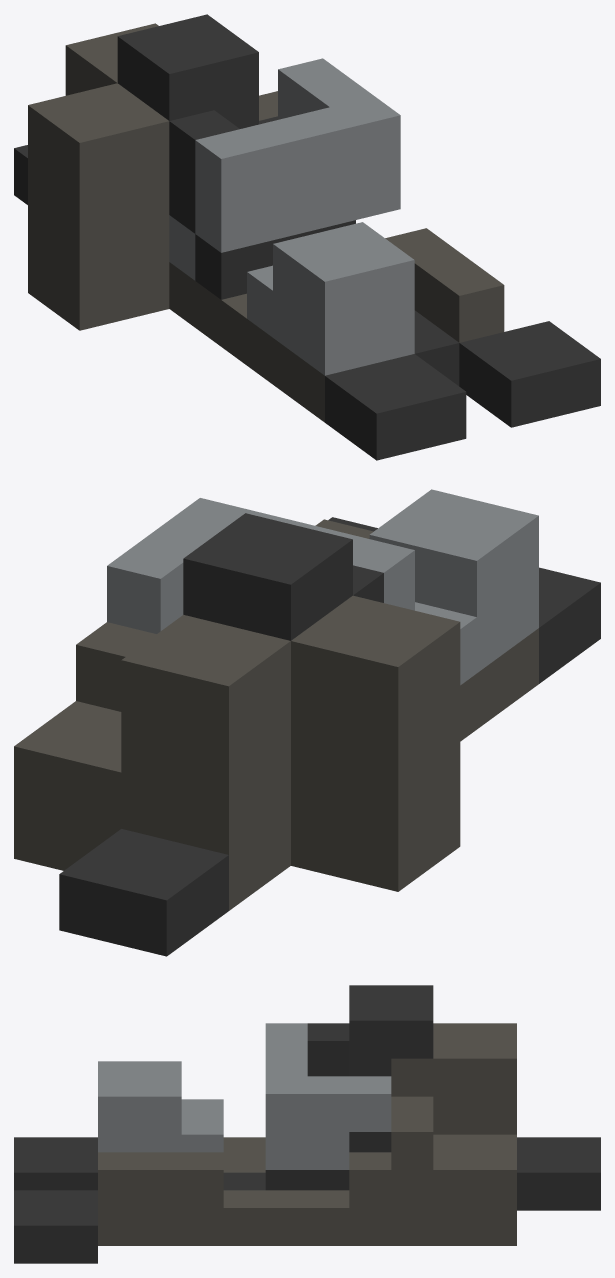
The model's file is Mecha01_left_foot.obj.
3 views of the same model, one above another, from view 1: azimuth 30°, elevation 25°; view 2: azimuth 150°, elevation 25°; view 3: azimuth 270°, elevation 25° (orthographic). The views are drawn at different scales.
Size of the model in its own units: 0.7 by 0.5 by 1.4.
1 material, 1 textured.
